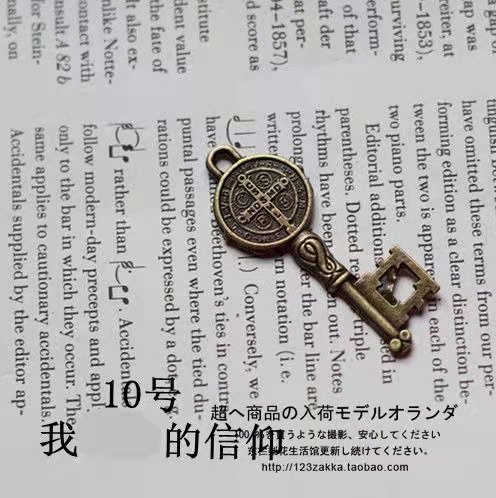key: (205, 141, 441, 359)
